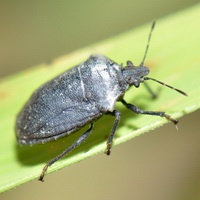insect: (16, 21, 187, 154)
